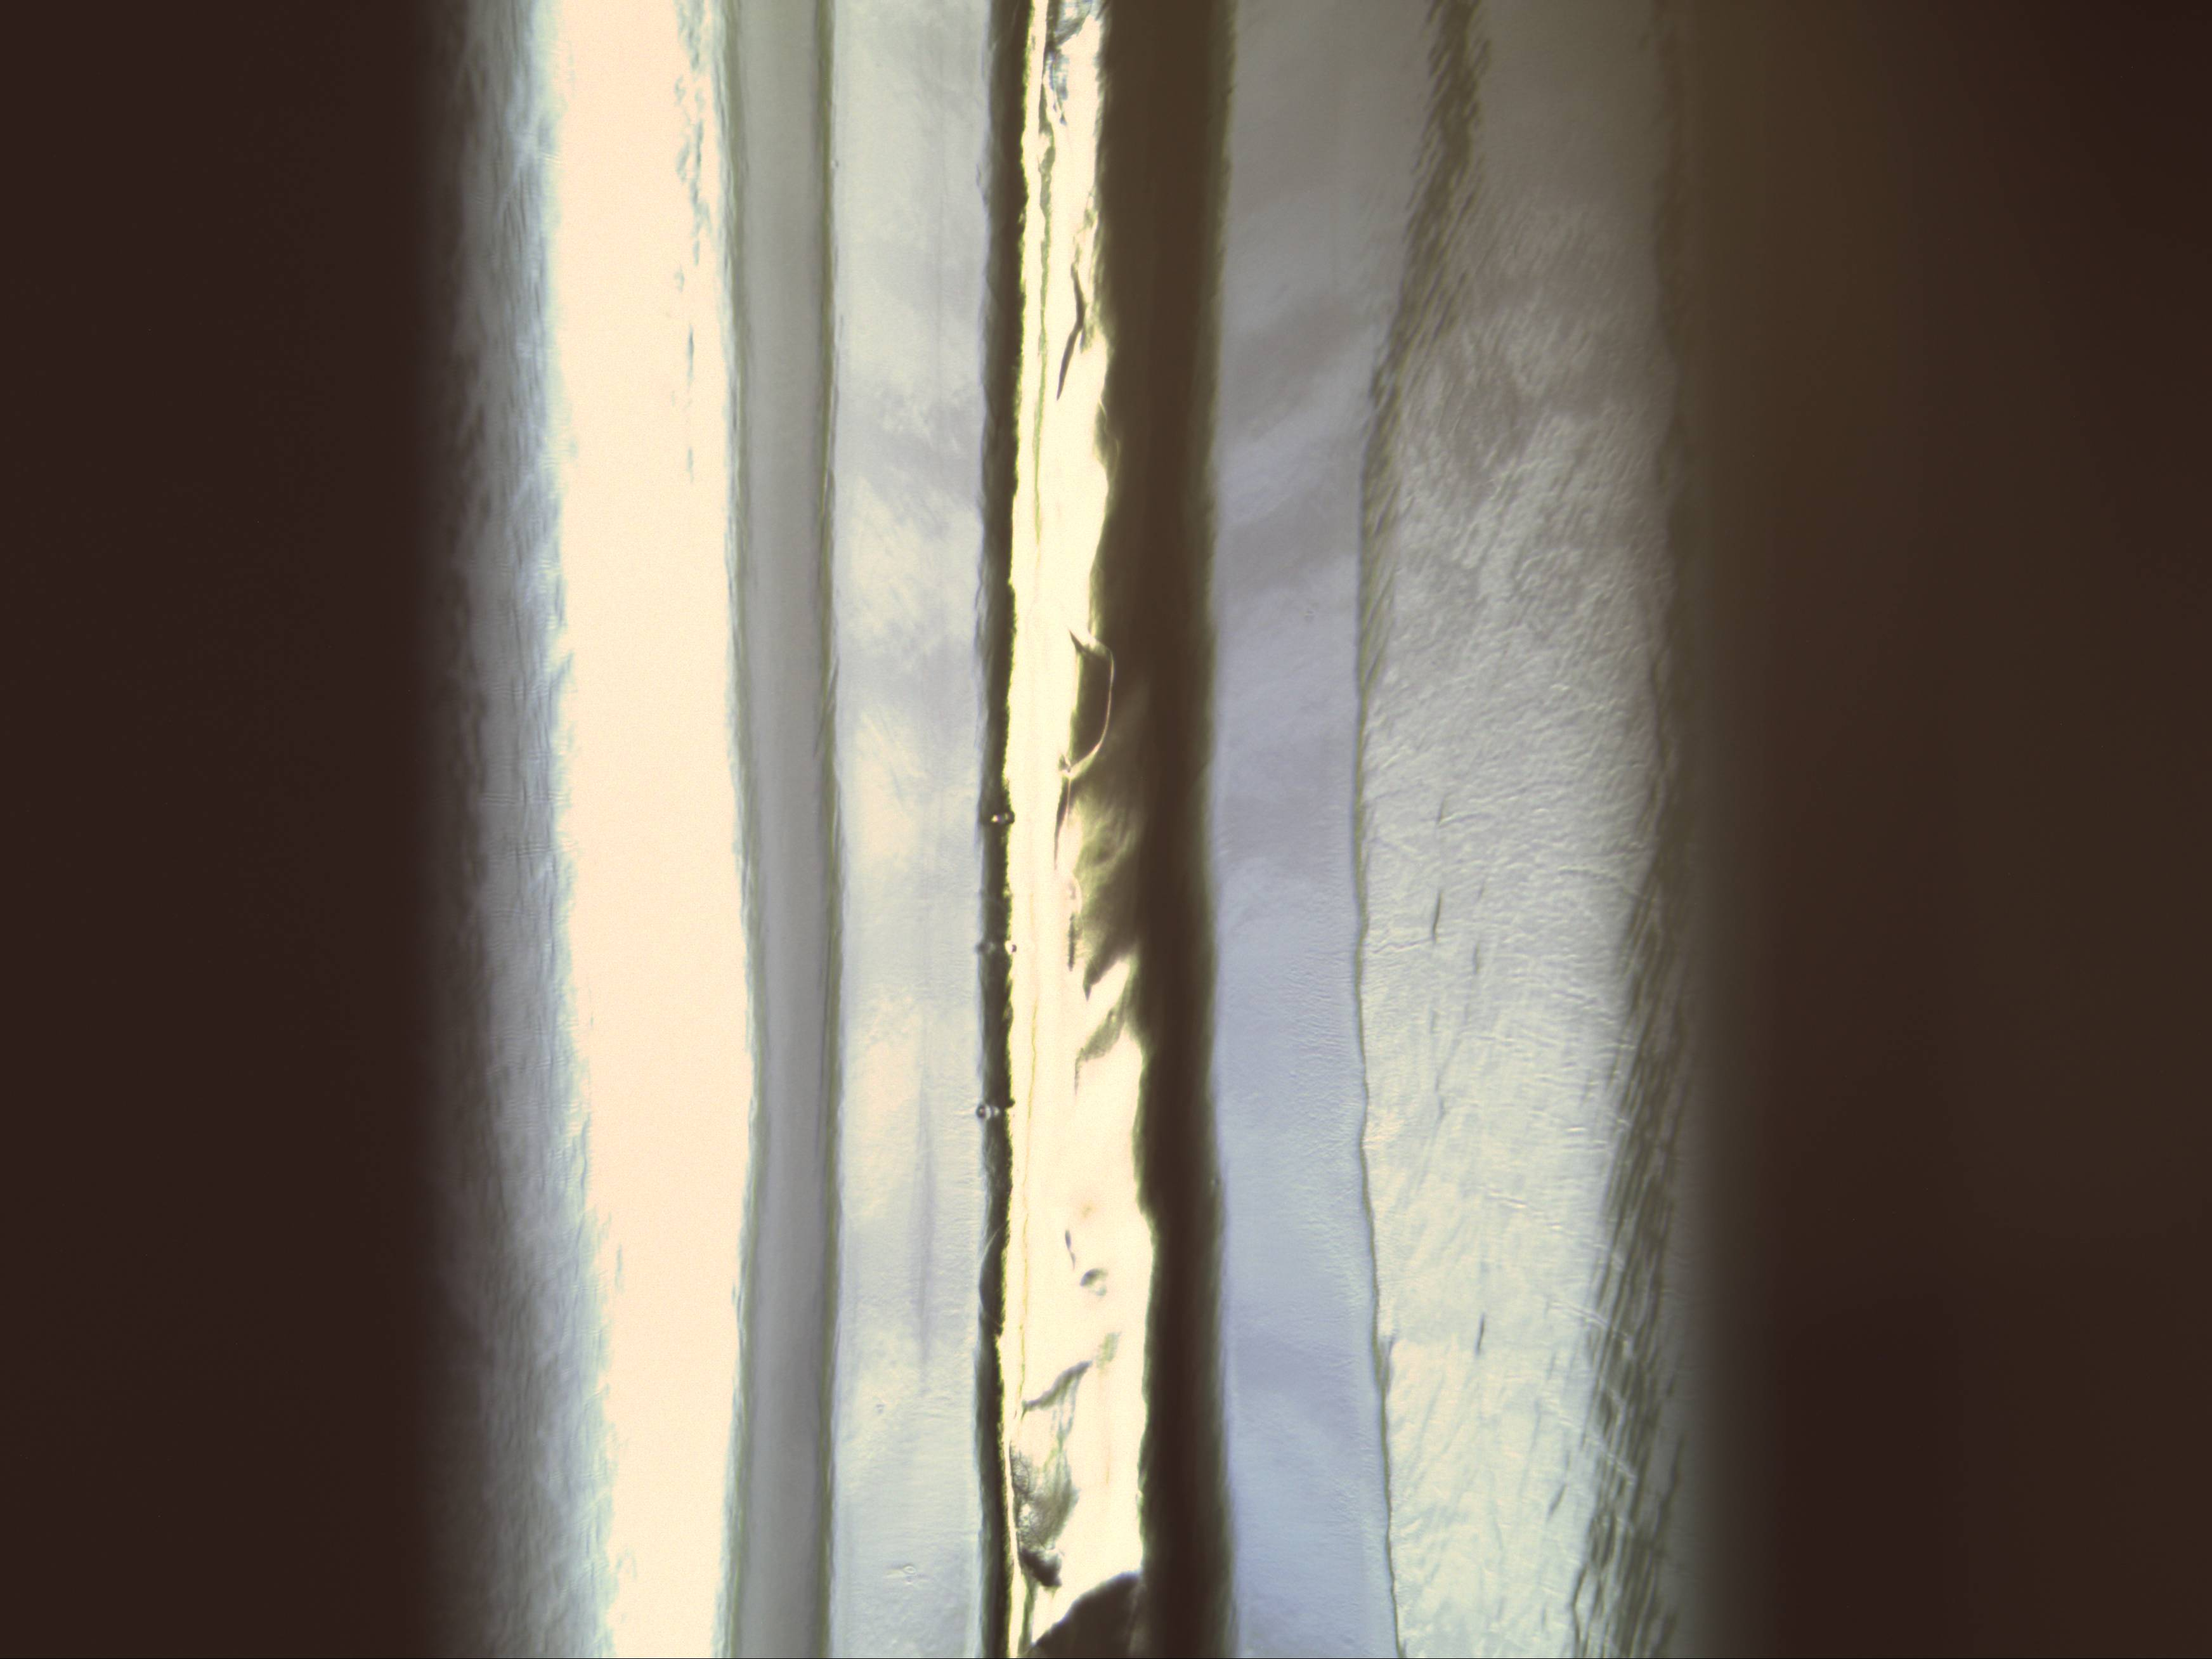defect: (970, 1086, 1022, 1134), (967, 925, 1026, 964), (979, 796, 1021, 833)
